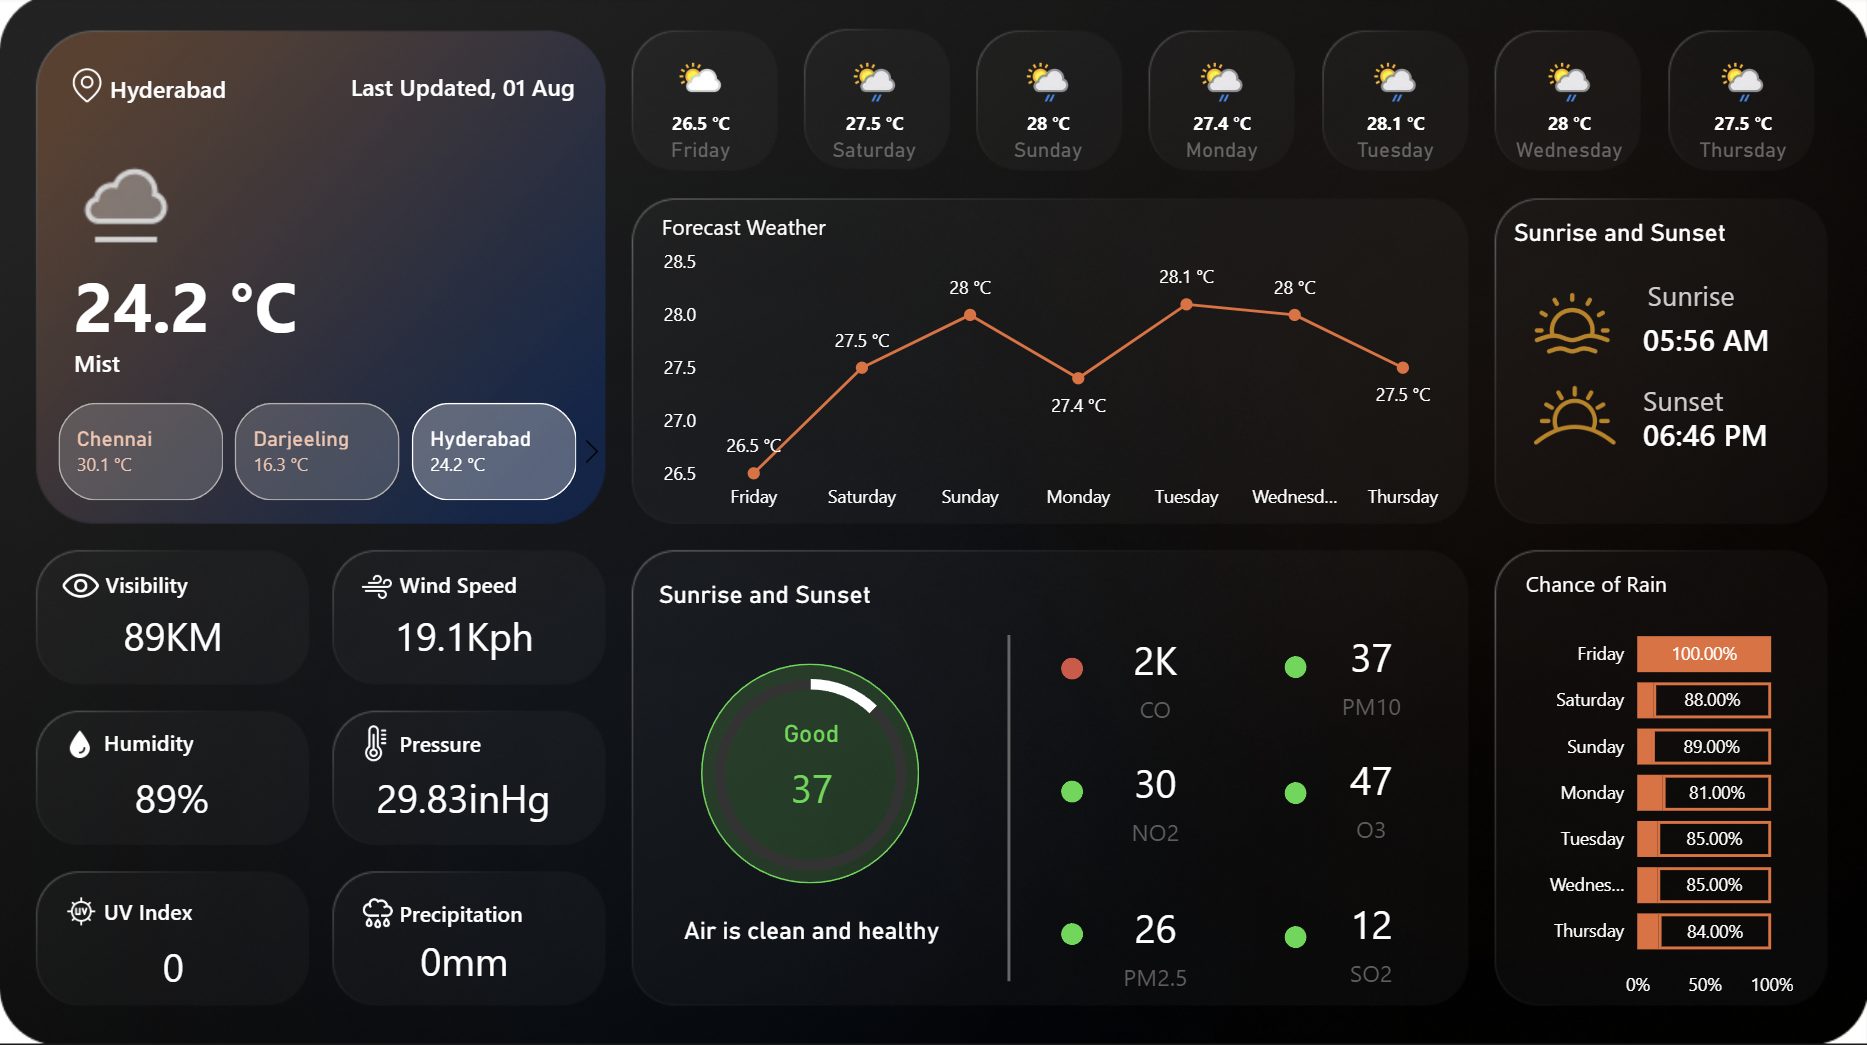

Layout of this report page (visuals, bound fields, positions):
{"tool":"powerbi","page":{"name":"Page 1","canvas":[1280,720],"ordinal":0},"visuals":[{"type":"advancedSlicerVisual","fields":{"Values":["Location.location.name"]},"box":[15.4,273.3,406.9,77.1],"z":0},{"type":"shape","box":[51,164.7,199.3,93.9],"z":1000},{"type":"shape","box":[51,231.9,199.3,37.1],"z":2000},{"type":"shape","box":[76.5,46.3,99.7,33.6],"z":3000},{"type":"shape","box":[176.1,46.3,219,31.3],"z":4000},{"type":"image","box":[38.2,44,44,33.6],"z":5000},{"type":"cardVisual","fields":{"Data":["Min(Current.current.condition.icon)"]},"box":[25.5,80,113.6,108.9],"z":6000},{"type":"image","box":[38.2,497.1,34.8,30.1],"z":7000},{"type":"image","box":[35.9,383.5,39.4,41.7],"z":8000},{"type":"shape","box":[73,390.5,62.6,25.5],"z":9000},{"type":"shape","box":[71.8,498.3,62.6,25.5],"z":10000},{"type":"image","box":[38.2,611.8,37.1,31.3],"z":11000},{"type":"shape","box":[71.8,614.1,62.6,25.5],"z":12000},{"type":"image","box":[242.2,388.2,32.4,32.4],"z":13000},{"type":"shape","box":[274.6,390.5,89.2,25.5],"z":14000},{"type":"image","box":[238.7,494.8,39.4,34.8],"z":15000},{"type":"shape","box":[274.6,499.4,89.2,25.5],"z":16000},{"type":"image","box":[241,610.7,35.9,35.9],"z":17000},{"type":"shape","box":[274.6,615.3,89.2,25.5],"z":18000},{"type":"card","fields":{"Values":["_Measures.Visibility"]},"box":[61.8,415.8,114.7,45.2],"z":19000},{"type":"card","fields":{"Values":["_Measures.Wind_Speed"]},"box":[261.4,415.8,114.7,45.2],"z":20000},{"type":"card","fields":{"Values":["_Measures.Humidity"]},"box":[60.7,527.2,114.7,45.2],"z":21000},{"type":"card","fields":{"Values":["_Measures.Pressure"]},"box":[247,527.2,142.3,45.2],"z":22000},{"type":"card","fields":{"Values":["Sum(Current.current.uv)"]},"box":[61.8,642.9,114.7,45.2],"z":23000},{"type":"card","fields":{"Values":["_Measures.Preci"]},"box":[261.4,639.6,114.7,45.2],"z":24000},{"type":"advancedSlicerVisual","fields":{"Values":["Forecast_Day.Day_Name"]},"box":[420.2,35.3,838.1,84.9],"z":25000},{"type":"lineChart","title":"Forecast Weather","fields":{"Y":["Sum(Forecast_Day.forecast.forecastday.day.avgtemp_c)"],"Category":["Forecast_Day.Day_Name"]},"box":[448.8,147.8,547,212.8],"z":26000},{"type":"shape","title":"Sunrise and Sunset","box":[1037.8,152.2,182,22.1],"z":27000},{"type":"shape","box":[1129.3,164.3,118,80.5],"z":28000},{"type":"shape","box":[1126,236.1,118,80.5],"z":29000},{"type":"shape","box":[1126,195.3,118,80.5],"z":30000},{"type":"shape","box":[1126,260.4,118,80.5],"z":31000},{"type":"image","box":[1046.6,193,62.9,61.8],"z":32000},{"type":"image","box":[1036.7,244.8,84.9,84.9],"z":33000},{"type":"shape","box":[481.3,457.8,149.5,150.7],"z":34000},{"type":"hundredPercentStackedBarChart","title":"Chance of Rain","fields":{"Y":["_Measures.Left_value_Rain","Sum(Forecast_Day.forecast.forecastday.day.daily_chance_of_rain)"],"Category":["Forecast_Day.Day_Name"]},"box":[1040.9,392.5,192.8,302.6],"z":35000},{"type":"shape","title":"Sunrise and Sunset","box":[452.1,399.5,182.2,22.2],"z":36000},{"type":"card","fields":{"Values":["Sum(Current.current.air_quality.pm10)"]},"box":[891.5,425.2,95.8,77.1],"z":37000},{"type":"card","fields":{"Values":["Sum(Current.current.air_quality.co)"]},"box":[744.1,427.8,95.8,77.1],"z":38000},{"type":"card","fields":{"Values":["Sum(Current.current.air_quality.no2)"]},"box":[744.1,511.9,95.8,77.1],"z":39000},{"type":"card","fields":{"Values":["Sum(Current.current.air_quality.o3)"]},"box":[891.5,509.4,95.8,77.1],"z":40000},{"type":"card","fields":{"Values":["Sum(Current.current.air_quality.pm2_5)"]},"box":[744.1,611.2,95.8,77.1],"z":41000},{"type":"donutChart","fields":{"Y":["Sum(Current.current.air_quality.pm10)","_Measures.Left_value_PM10"]},"box":[468.5,444.9,174.1,176.4],"z":42000},{"type":"card","fields":{"Values":["Sum(Current.current.air_quality.so2)"]},"box":[891.5,608.7,95.8,77.1],"z":43000},{"type":"shape","box":[728,453.3,15.2,15.2],"z":44000},{"type":"shape","box":[880.9,452.3,15.2,15.2],"z":45000},{"type":"shape","box":[728,537.4,15.2,15.2],"z":46000},{"type":"shape","box":[728,635.5,15.2,15.2],"z":47000},{"type":"shape","box":[880.9,538.8,15.2,15.2],"z":48000},{"type":"shape","box":[880.9,636.9,15.2,15.2],"z":49000},{"type":"shape","box":[637.9,438.1,107.5,237.2],"z":50000},{"type":"card","fields":{"Values":["Sum(Current.current.air_quality.pm10)"]},"box":[508.2,495.2,95.8,77.1],"z":51000},{"type":"shape","box":[434.6,629.7,244.2,72.4],"z":52000}]}

Visuals, with their boxes in screenshot pixels (x1, y1, x2, y2), scaled from the page's 1280x720 canvas onto the 1867x1045 screenshot:
advancedSlicerVisual - Location.location.name: <region>22, 397, 616, 509</region>
shape: <region>74, 239, 365, 375</region>
shape: <region>74, 337, 365, 390</region>
shape: <region>112, 67, 257, 116</region>
shape: <region>257, 67, 576, 113</region>
image: <region>56, 64, 120, 113</region>
cardVisual - Min(Current.current.condition.icon): <region>37, 116, 203, 274</region>
image: <region>56, 721, 106, 765</region>
image: <region>52, 557, 110, 617</region>
shape: <region>106, 567, 198, 604</region>
shape: <region>105, 723, 196, 760</region>
image: <region>56, 888, 110, 933</region>
shape: <region>105, 891, 196, 928</region>
image: <region>353, 563, 401, 610</region>
shape: <region>401, 567, 531, 604</region>
image: <region>348, 718, 406, 769</region>
shape: <region>401, 725, 531, 762</region>
image: <region>352, 886, 404, 938</region>
shape: <region>401, 893, 531, 930</region>
card - _Measures.Visibility: <region>90, 603, 257, 669</region>
card - _Measures.Wind_Speed: <region>381, 603, 549, 669</region>
card - _Measures.Humidity: <region>89, 765, 256, 831</region>
card - _Measures.Pressure: <region>360, 765, 568, 831</region>
card - Sum(Current.current.uv): <region>90, 933, 257, 999</region>
card - _Measures.Preci: <region>381, 928, 549, 994</region>
advancedSlicerVisual - Forecast_Day.Day_Name: <region>613, 51, 1835, 174</region>
"Forecast Weather" lineChart: <region>655, 215, 1452, 523</region>
"Sunrise and Sunset" shape: <region>1514, 221, 1779, 253</region>
shape: <region>1647, 238, 1819, 355</region>
shape: <region>1642, 343, 1814, 460</region>
shape: <region>1642, 283, 1814, 400</region>
shape: <region>1642, 378, 1814, 495</region>
image: <region>1527, 280, 1618, 370</region>
image: <region>1512, 355, 1636, 479</region>
shape: <region>702, 664, 920, 883</region>
"Chance of Rain" hundredPercentStackedBarChart: <region>1518, 570, 1799, 1009</region>
"Sunrise and Sunset" shape: <region>659, 580, 925, 612</region>
card - Sum(Current.current.air_quality.pm10): <region>1300, 617, 1440, 729</region>
card - Sum(Current.current.air_quality.co): <region>1085, 621, 1225, 733</region>
card - Sum(Current.current.air_quality.no2): <region>1085, 743, 1225, 855</region>
card - Sum(Current.current.air_quality.o3): <region>1300, 739, 1440, 851</region>
card - Sum(Current.current.air_quality.pm2_5): <region>1085, 887, 1225, 999</region>
donutChart - Sum(Current.current.air_quality.pm10) x _Measures.Left_value_PM10: <region>683, 646, 937, 902</region>
card - Sum(Current.current.air_quality.so2): <region>1300, 883, 1440, 995</region>
shape: <region>1062, 658, 1084, 680</region>
shape: <region>1285, 656, 1307, 679</region>
shape: <region>1062, 780, 1084, 802</region>
shape: <region>1062, 922, 1084, 944</region>
shape: <region>1285, 782, 1307, 804</region>
shape: <region>1285, 924, 1307, 946</region>
shape: <region>930, 636, 1087, 980</region>
card - Sum(Current.current.air_quality.pm10): <region>741, 719, 881, 831</region>
shape: <region>634, 914, 990, 1019</region>
